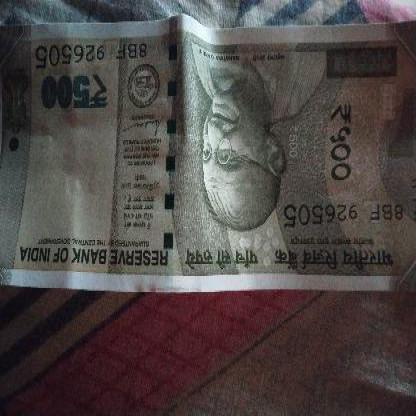New500Front: (0, 16, 415, 295)
